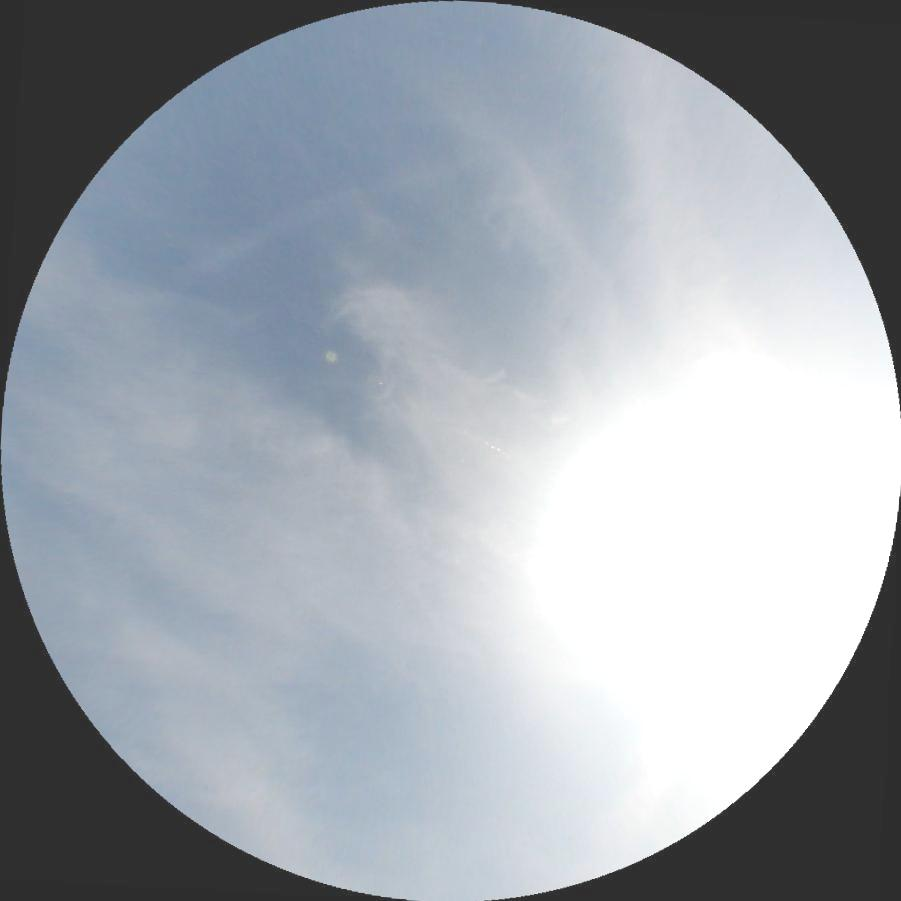contrail veryold: (586, 692, 720, 867), (185, 189, 336, 278)
sun: (607, 444, 821, 656)
